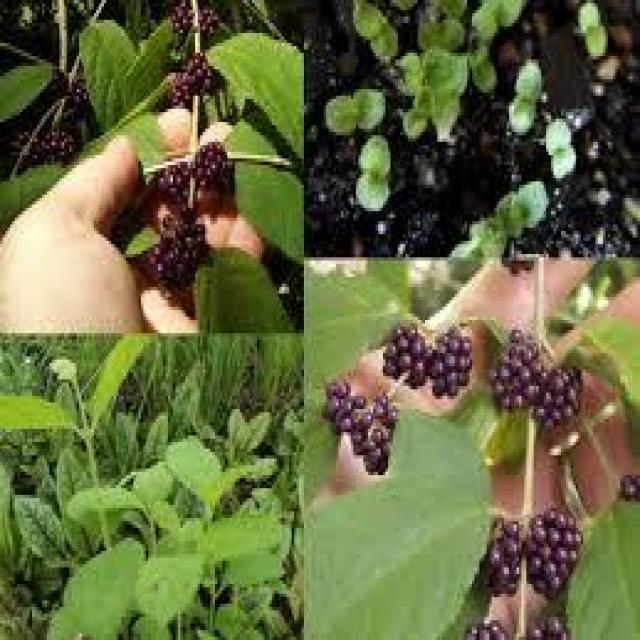organic waste: (480, 511, 587, 607), (373, 305, 480, 398), (328, 373, 394, 478), (506, 335, 580, 414), (157, 213, 216, 285), (192, 133, 240, 200), (180, 61, 232, 107), (140, 167, 187, 216)
